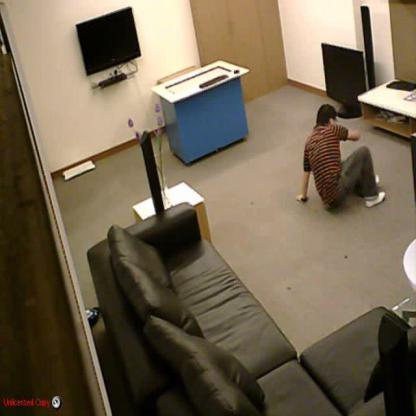Person: (294, 105, 386, 209)
